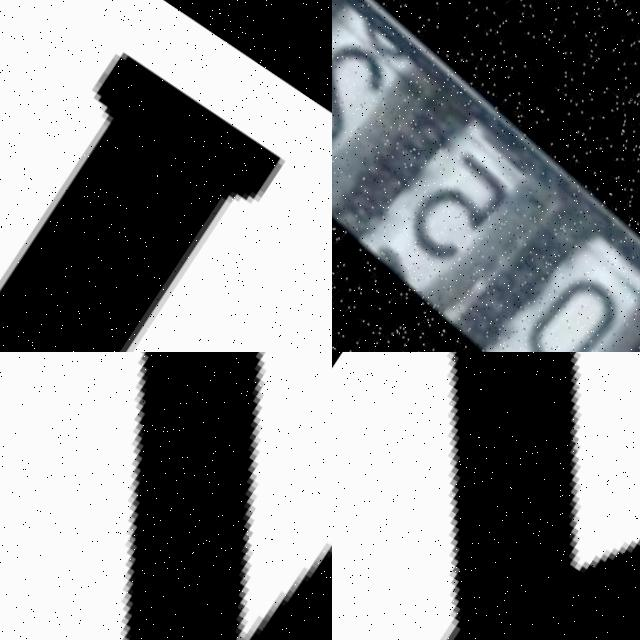0: (507, 252, 639, 352)
2: (332, 18, 407, 166)
5: (387, 132, 527, 287)
L: (0, 0, 300, 352)
V: (0, 352, 332, 640)
Y: (332, 352, 640, 640)
